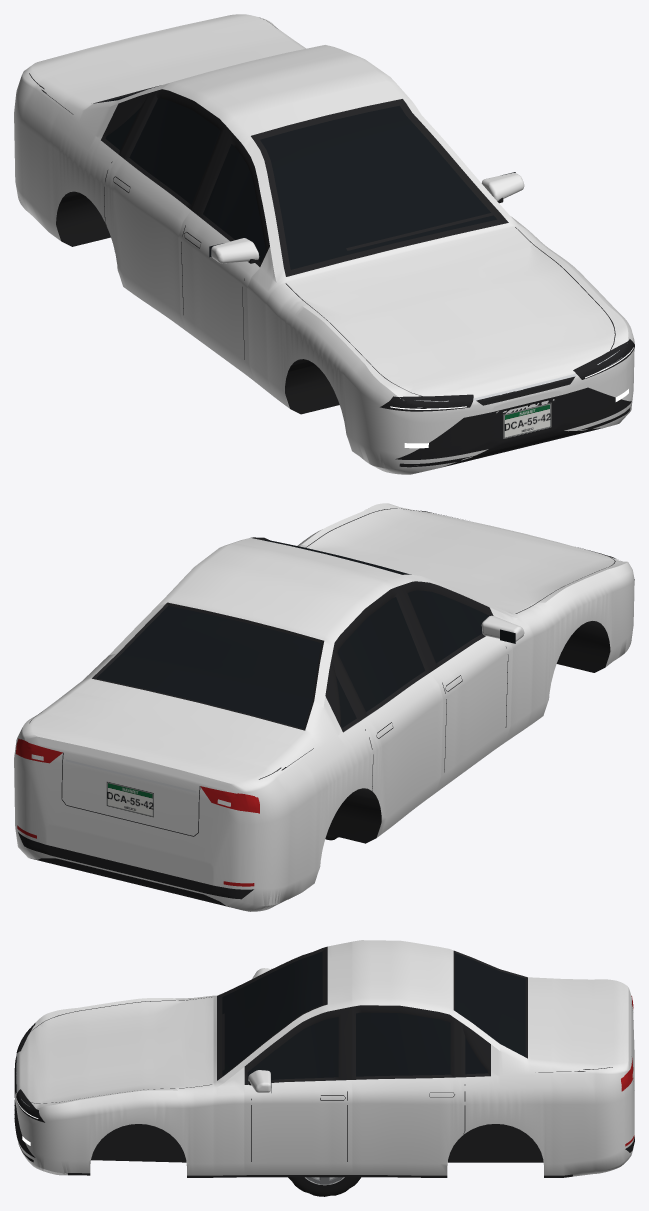
The model's file is toyota-yaris.glb.
3 views of the same model, one above another, from view 1: azimuth 30°, elevation 25°; view 2: azimuth 150°, elevation 25°; view 3: azimuth 270°, elevation 25° (orthographic). The views are drawn at different scales.
Parts seen in each view (by area): view 1: body; view 2: body; view 3: body, wheel.
Part boxes in pixels (x1,y1,x2,y2): body: (14,14,634,474); body: (14,503,634,911); body: (14,940,634,1177); wheel: (288,1177,360,1196).
Bounding box in the file's own units: 1.97 × 1.77 × 4.43.
Materials: 1 (1 with a texture image).
